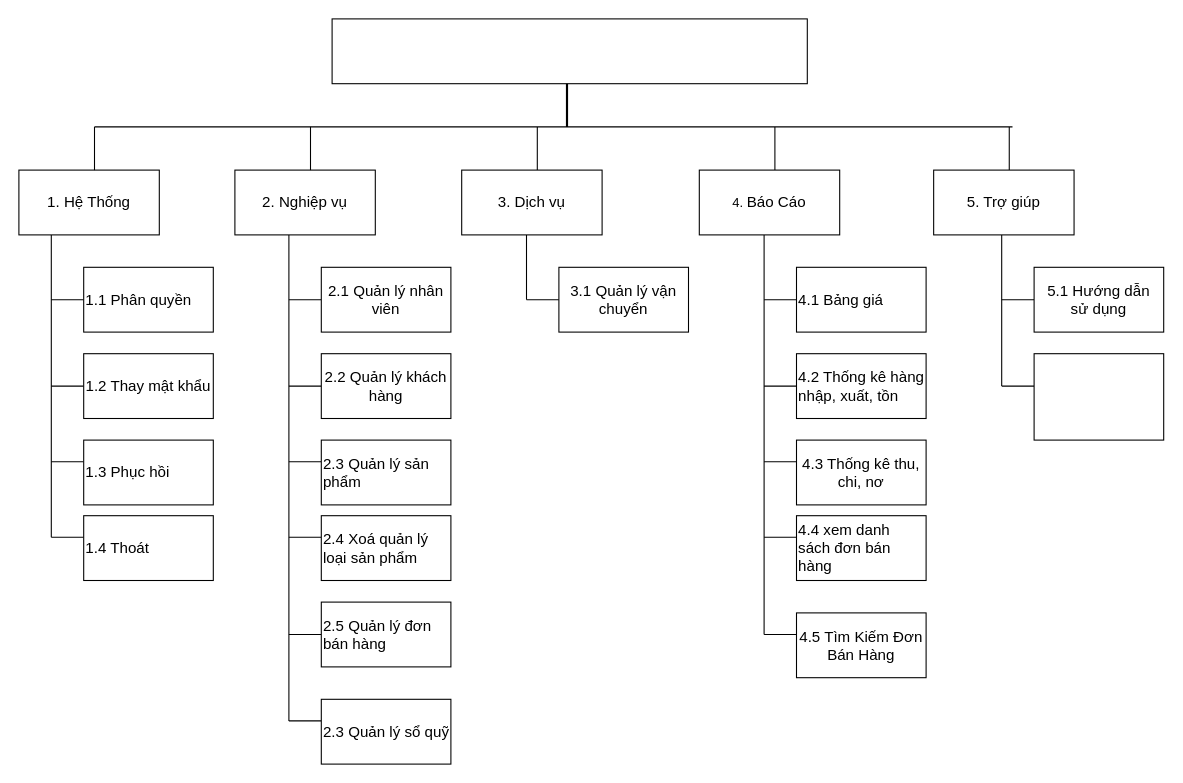
Some shapes in this 1183 by 783 pixel diagram are drawn without their labels. The centre of each missing label's shape, as x and y in pixels:
5.2 Tác giả: (1098,396)
Phần mềm quản lý bán hàng cửa hàng đồ gỗ: (569,51)
